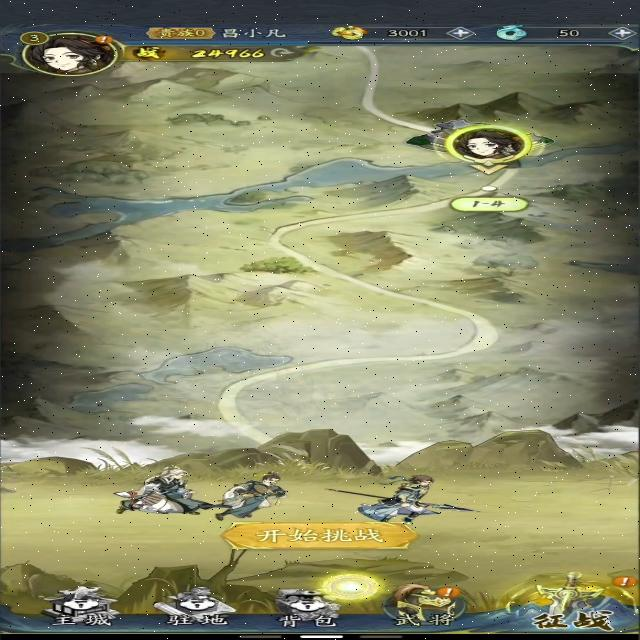navigation-hero: (378, 577, 476, 629)
navigation-role: (10, 24, 140, 80)
navigation-station-off: (148, 583, 246, 629)
operation-confirm: (220, 520, 418, 551), (603, 573, 640, 588), (432, 582, 463, 599), (90, 32, 118, 46)
